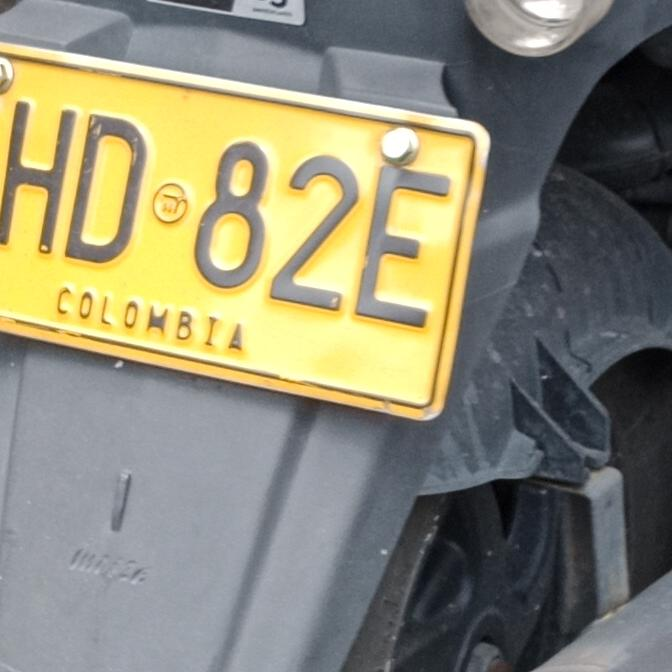plates: (0, 42, 487, 429)
